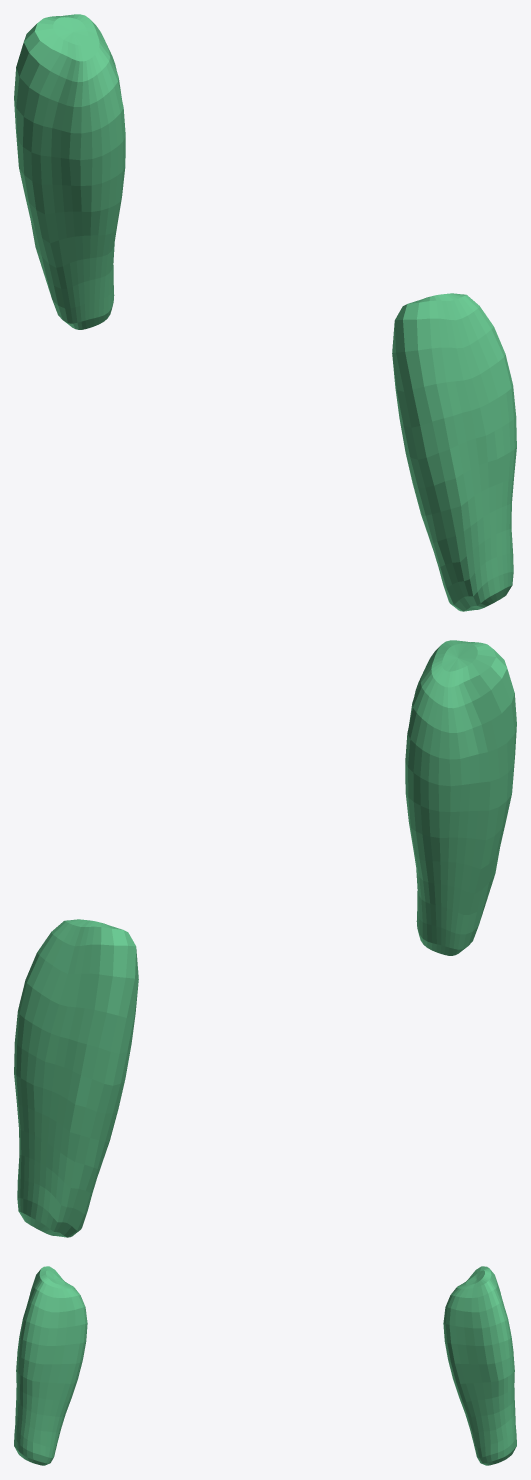
File: forearms_variant-2.glb
3 views of the same model, one above another, from view 1: azimuth 30°, elevation 25°; view 2: azimuth 150°, elevation 25°; view 3: azimuth 270°, elevation 25° (orthographic). The views are drawn at different scales.
Parts seen in each view (by area): view 1: fore-arms-1; view 2: fore-arms-1; view 3: fore-arms-1.
Boxes of the visible parts, left/top/right/bottom form: fore-arms-1: left=14, top=14, right=516, bottom=611; fore-arms-1: left=14, top=640, right=516, bottom=1237; fore-arms-1: left=14, top=1266, right=516, bottom=1465.
Bounding box in the file's own units: 0.2807 × 0.8074 × 2.
